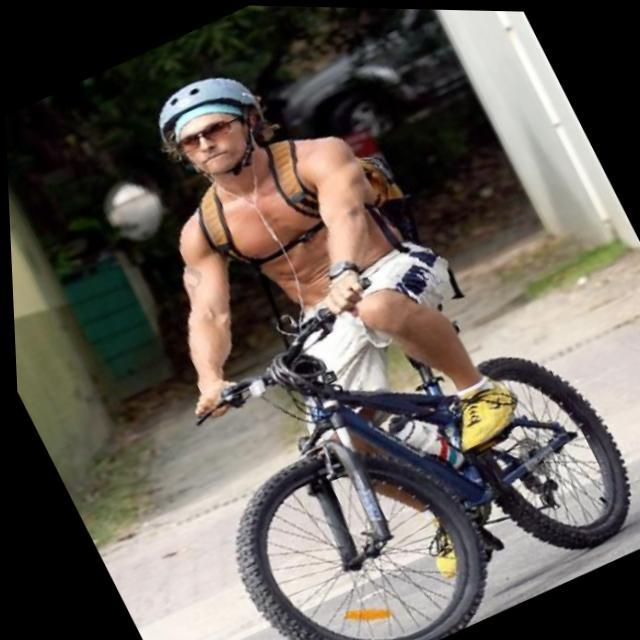Helmet: (147, 63, 281, 195)
